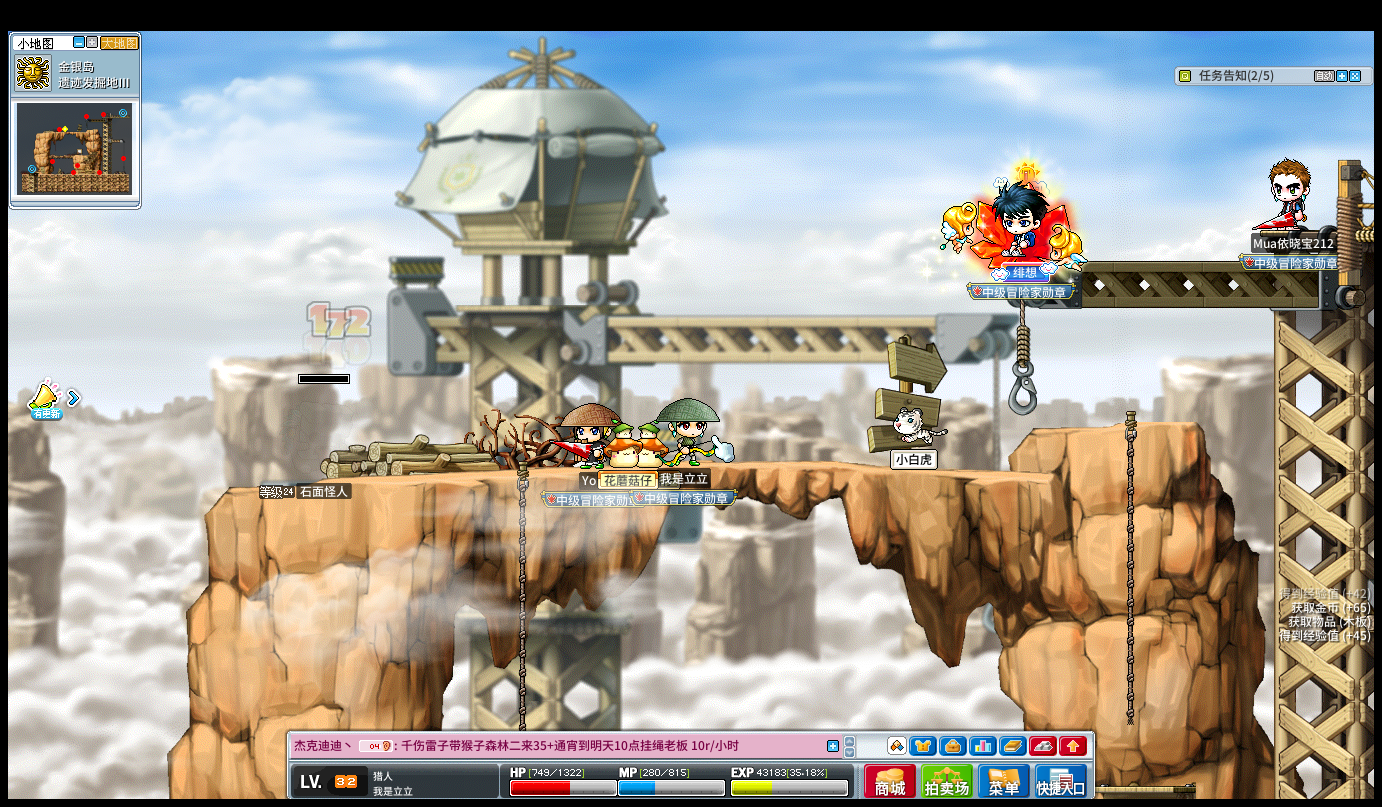floor: (216, 455, 1138, 483), (1029, 417, 1198, 433), (1029, 421, 1203, 435)
rope: (1122, 408, 1137, 729), (516, 459, 528, 673), (1123, 612, 1135, 725)
